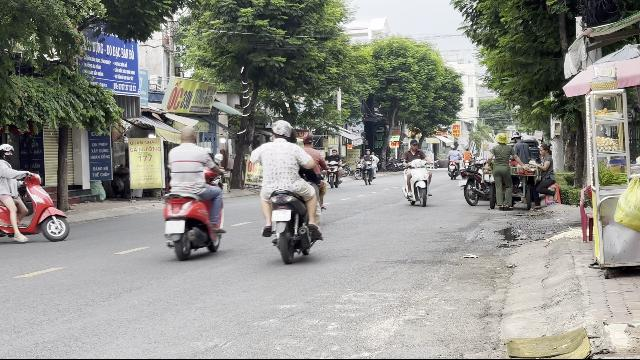helmet: (270, 119, 294, 141), (0, 143, 14, 161)
licenseplate: (165, 220, 185, 234), (272, 210, 290, 221)
motorcyclist: (254, 119, 326, 263), (159, 124, 225, 260), (0, 141, 74, 246), (401, 137, 435, 207)
nohelmet: (178, 126, 198, 144)
